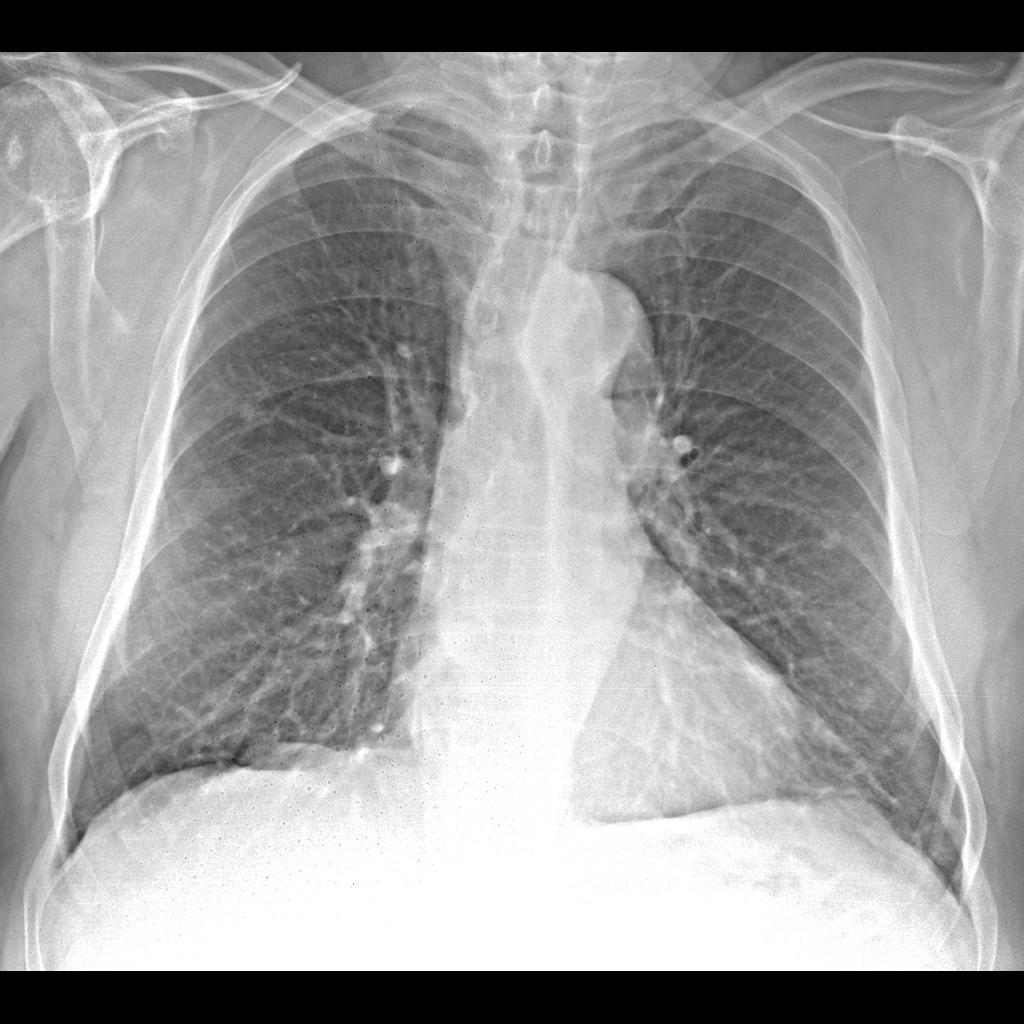Nodule: (808, 515, 843, 560)
